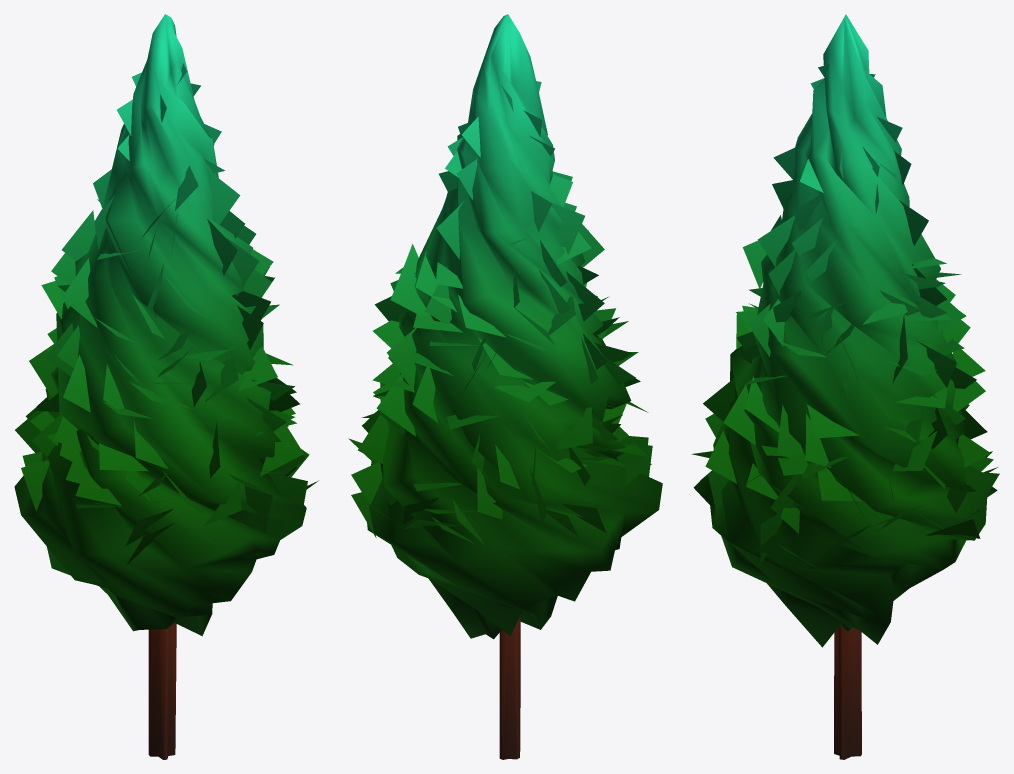
The model's file is Pine_Tree_3A.fbx.
The picture shows the model from 3 angles, left to right: view 1: azimuth 30°, elevation 25°; view 2: azimuth 150°, elevation 25°; view 3: azimuth 270°, elevation 25°; orthographic projection.
Visible parts, largest first — view 1: Pine_Tree_3A; view 2: Pine_Tree_3A; view 3: Pine_Tree_3A.
Boxes of the visible parts, bbox=[...] form: Pine_Tree_3A: bbox=[14, 14, 318, 759]; Pine_Tree_3A: bbox=[348, 14, 662, 759]; Pine_Tree_3A: bbox=[691, 14, 999, 759].
Bounding box in the file's own units: 243 × 672 × 254.
